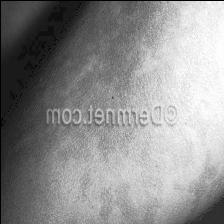Potentially Malignant Skin Tumors: (14, 132, 193, 167), (57, 61, 174, 103)
